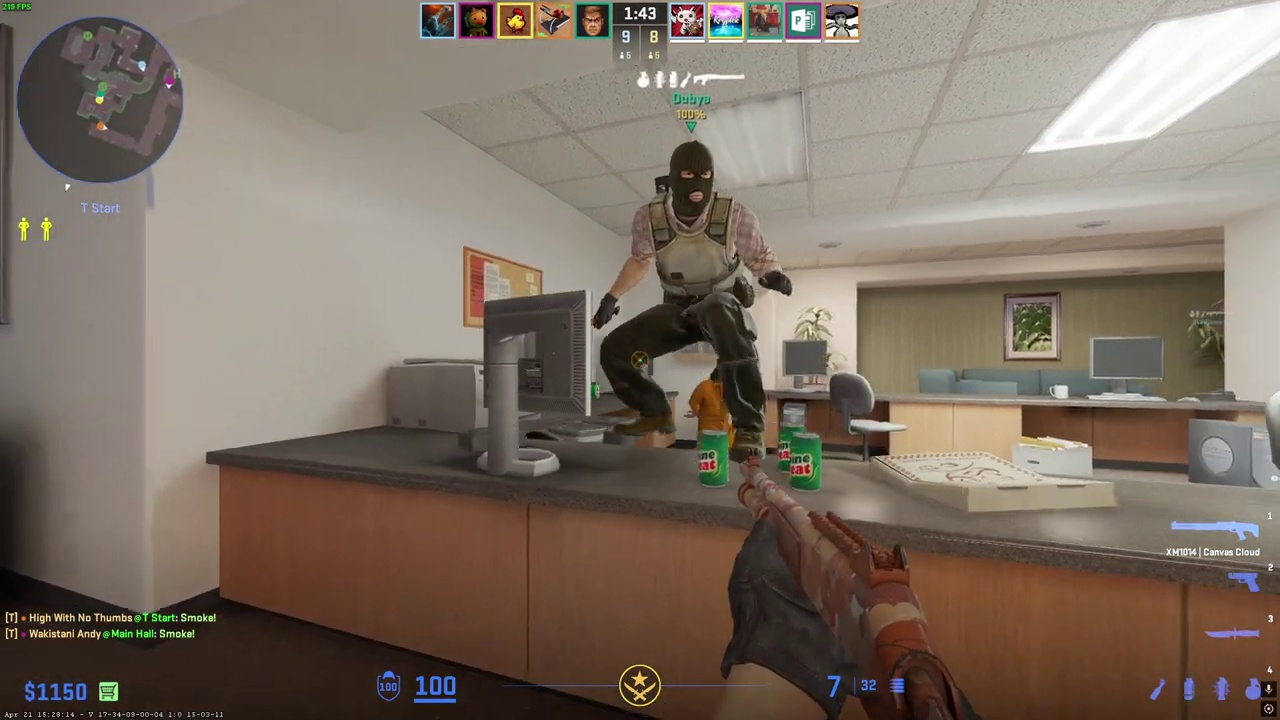Terrorist: (600, 140, 779, 465)
